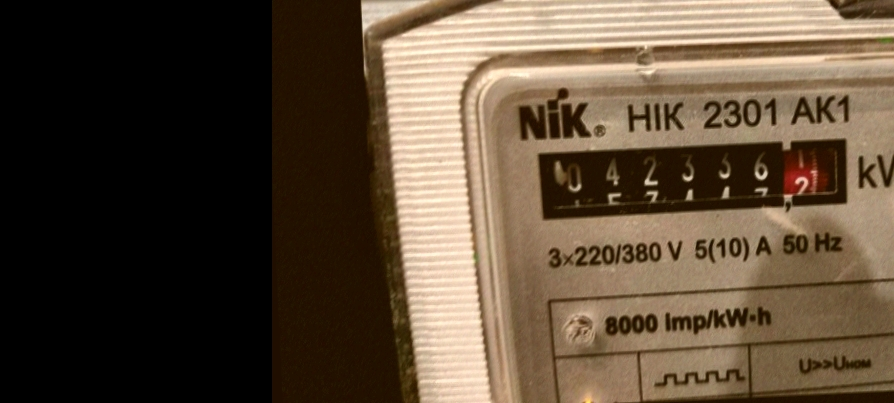0: (563, 161, 584, 195)
1: (793, 145, 806, 171)
2: (639, 153, 662, 188), (791, 176, 809, 197)
3: (676, 151, 695, 184), (715, 149, 733, 182)
4: (603, 155, 622, 188)
6: (750, 149, 772, 184)
screen: (524, 125, 863, 232)
